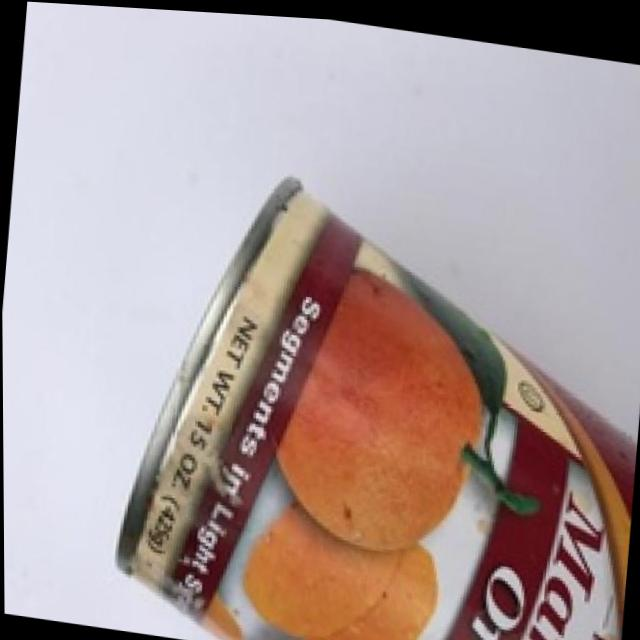metal: (97, 147, 640, 640)
